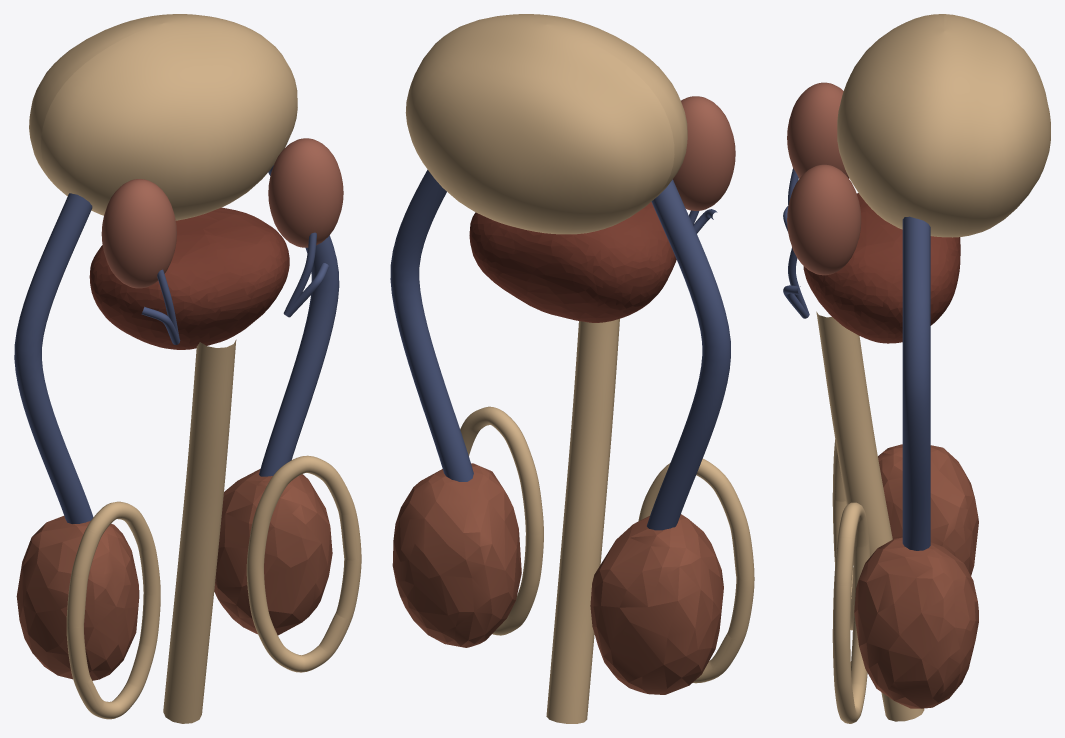
The model's file is male-reproductive.2eb4ec49.glb.
3 renders of one model, left to right at view 1: azimuth 30°, elevation 25°; view 2: azimuth 150°, elevation 25°; view 3: azimuth 270°, elevation 25°, orthographic. The views are drawn at different scales.
Parts seen in each view (by area): view 1: procedural-male-reproductive-surface-1, Prostate, procedural-male-reproductive-surface-6, Right testis, Left testis, procedural-male-reproductive-surface-2, procedural-male-reproductive-surface-10, procedural-male-reproductive-surface-7, procedural-male-reproductive-surface-4, procedural-male-reproductive-surface-5, procedural-male-reproductive-surface-3, procedural-male-reproductive-surface-12; view 2: procedural-male-reproductive-surface-1, Right testis, Left testis, procedural-male-reproductive-surface-6, Prostate, procedural-male-reproductive-surface-2, procedural-male-reproductive-surface-3, procedural-male-reproductive-surface-10, procedural-male-reproductive-surface-4, procedural-male-reproductive-surface-7; view 3: procedural-male-reproductive-surface-1, Left testis, Prostate, procedural-male-reproductive-surface-3, procedural-male-reproductive-surface-6, procedural-male-reproductive-surface-5, Right testis, procedural-male-reproductive-surface-10, procedural-male-reproductive-surface-4, procedural-male-reproductive-surface-7.
Part boxes in pixels (x1,y1,x2,y2): procedural-male-reproductive-surface-1: (29,14,297,220); Prostate: (89,207,289,349); procedural-male-reproductive-surface-6: (163,339,236,723); Right testis: (16,516,139,680); Left testis: (214,469,332,635); procedural-male-reproductive-surface-2: (14,193,93,523); procedural-male-reproductive-surface-10: (246,455,361,672); procedural-male-reproductive-surface-7: (66,501,160,719); procedural-male-reproductive-surface-4: (101,179,176,288); procedural-male-reproductive-surface-5: (268,138,343,247); procedural-male-reproductive-surface-3: (259,165,339,476); procedural-male-reproductive-surface-12: (283,232,316,315); procedural-male-reproductive-surface-1: (405,14,687,234); Right testis: (590,514,723,694); Left testis: (392,463,521,647); procedural-male-reproductive-surface-6: (546,318,619,723); Prostate: (469,202,676,322); procedural-male-reproductive-surface-2: (647,179,730,530); procedural-male-reproductive-surface-3: (390,169,473,481); procedural-male-reproductive-surface-10: (460,406,543,635); procedural-male-reproductive-surface-4: (673,96,735,210); procedural-male-reproductive-surface-7: (638,459,754,683); procedural-male-reproductive-surface-1: (837,14,1050,237); Left testis: (854,537,978,708); Prostate: (803,193,960,343); procedural-male-reproductive-surface-3: (902,216,930,550); procedural-male-reproductive-surface-6: (816,311,924,721); procedural-male-reproductive-surface-5: (787,164,861,275); Right testis: (878,444,978,575); procedural-male-reproductive-surface-10: (832,502,870,723); procedural-male-reproductive-surface-4: (787,82,849,178); procedural-male-reproductive-surface-7: (832,439,853,630).
Bounding box in the file's own units: 1.62 × 3.27 × 1.16.
